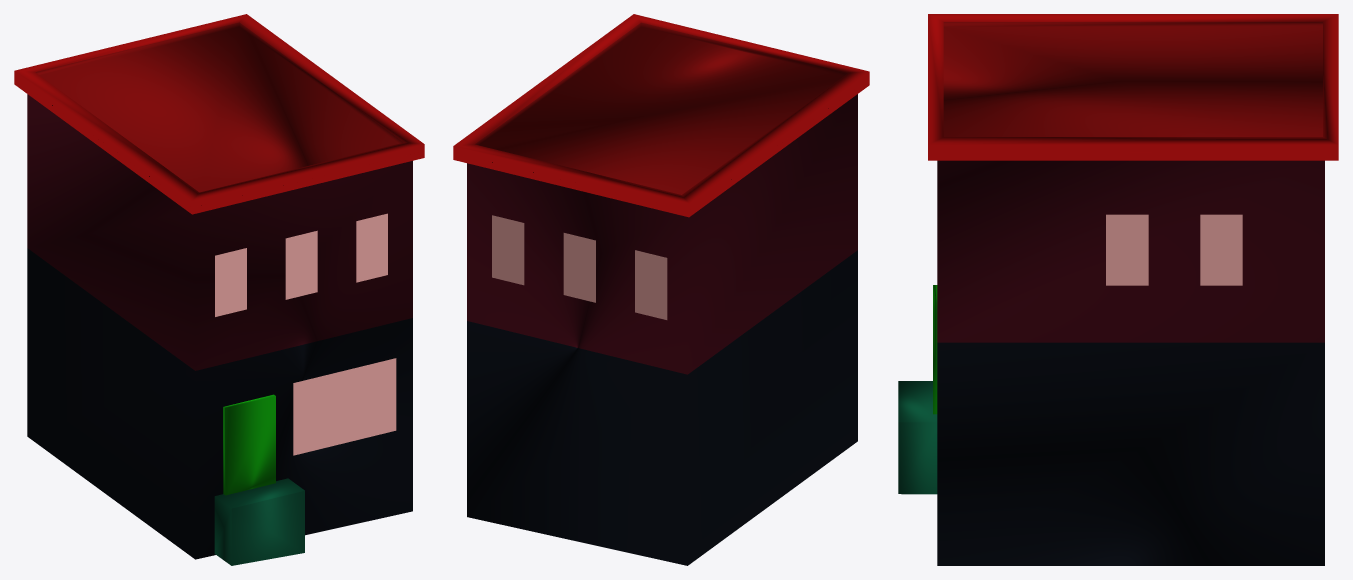
File: Building3.fbx
3 views of the same model, side by side, from view 1: azimuth 30°, elevation 25°; view 2: azimuth 150°, elevation 25°; view 3: azimuth 270°, elevation 25° (orthographic). The views are drawn at different scales.
Parts seen in each view (by area): view 1: Cube.002; view 2: Cube.002; view 3: Cube.002.
Boxes of the visible parts, bbox=[...] form: Cube.002: bbox=[14, 14, 424, 565]; Cube.002: bbox=[453, 14, 869, 565]; Cube.002: bbox=[898, 14, 1338, 565].
Size of the model in its own units: 1084 by 1642 by 1540.
